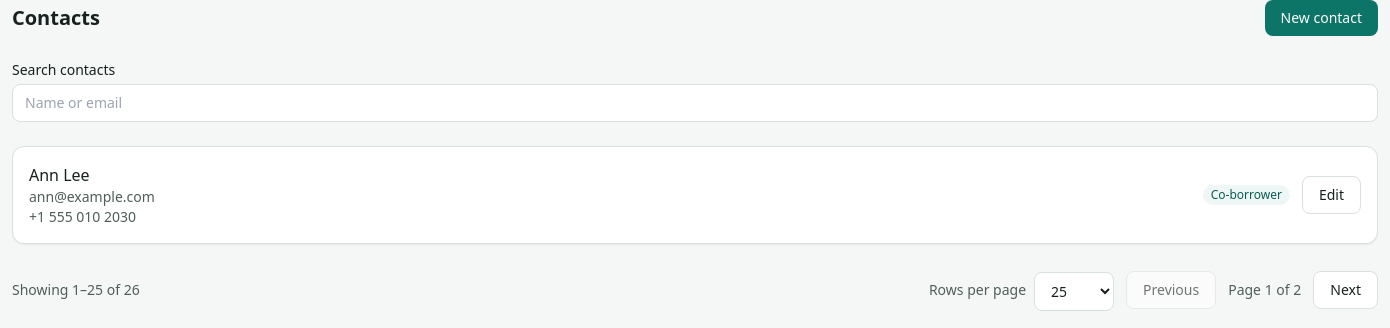
Test: ContactsPage › shows an empty state and pages through results
Expected: the text "Page 1 of 2" is shown, [1228, 280, 1301, 300]
Expected: the button "Previous" is disabled, [1126, 270, 1216, 308]
Click the button "Next".
click(1346, 290)  # box [1313, 270, 1378, 308]
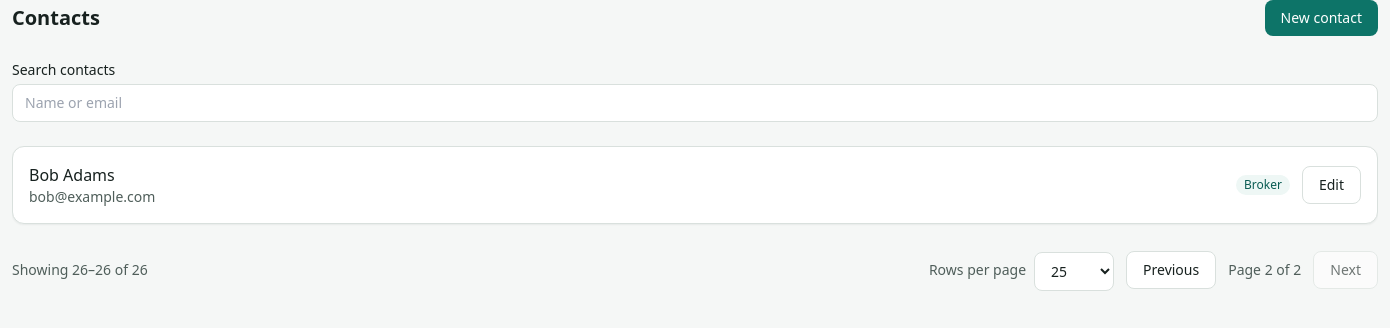
Expected: the text "Bob Adams" is shown, [29, 164, 115, 186]
Expected: the text "Page 2 of 2" is shown, [1228, 260, 1301, 280]
Expected: the button "Next" is disabled, [1313, 250, 1378, 288]
